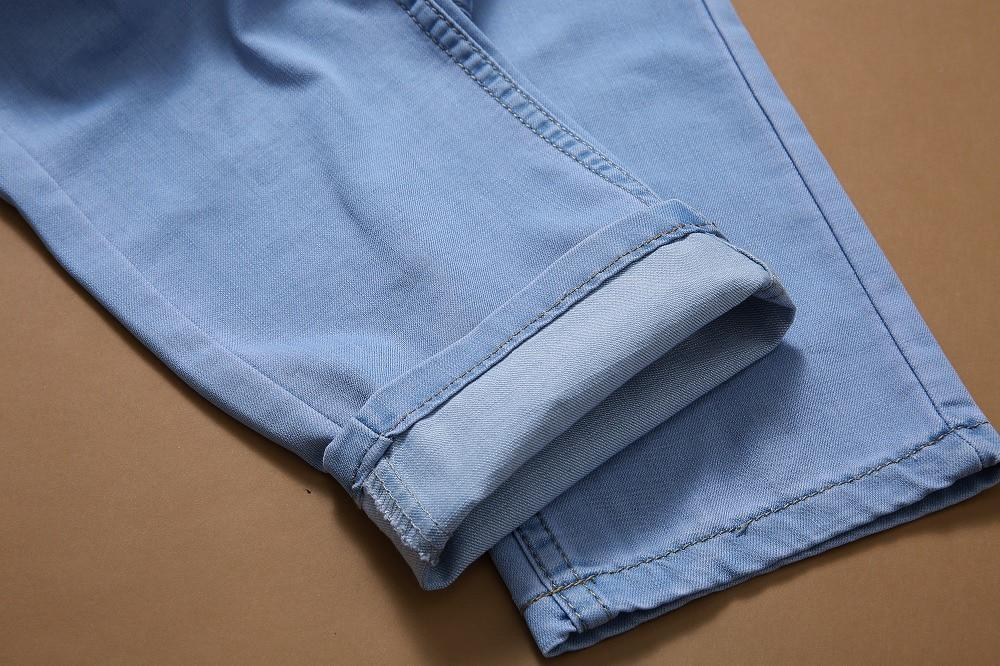jeans: (10, 1, 997, 632)
